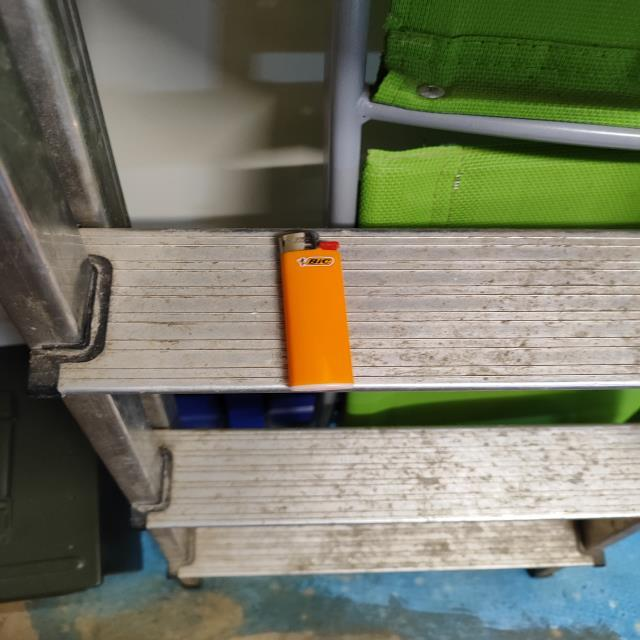lighter: (276, 231, 353, 387)
